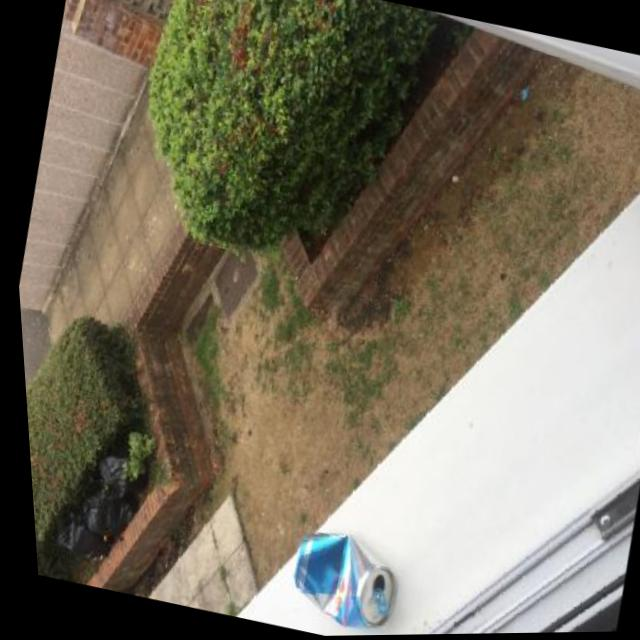metal: (281, 520, 412, 636)
